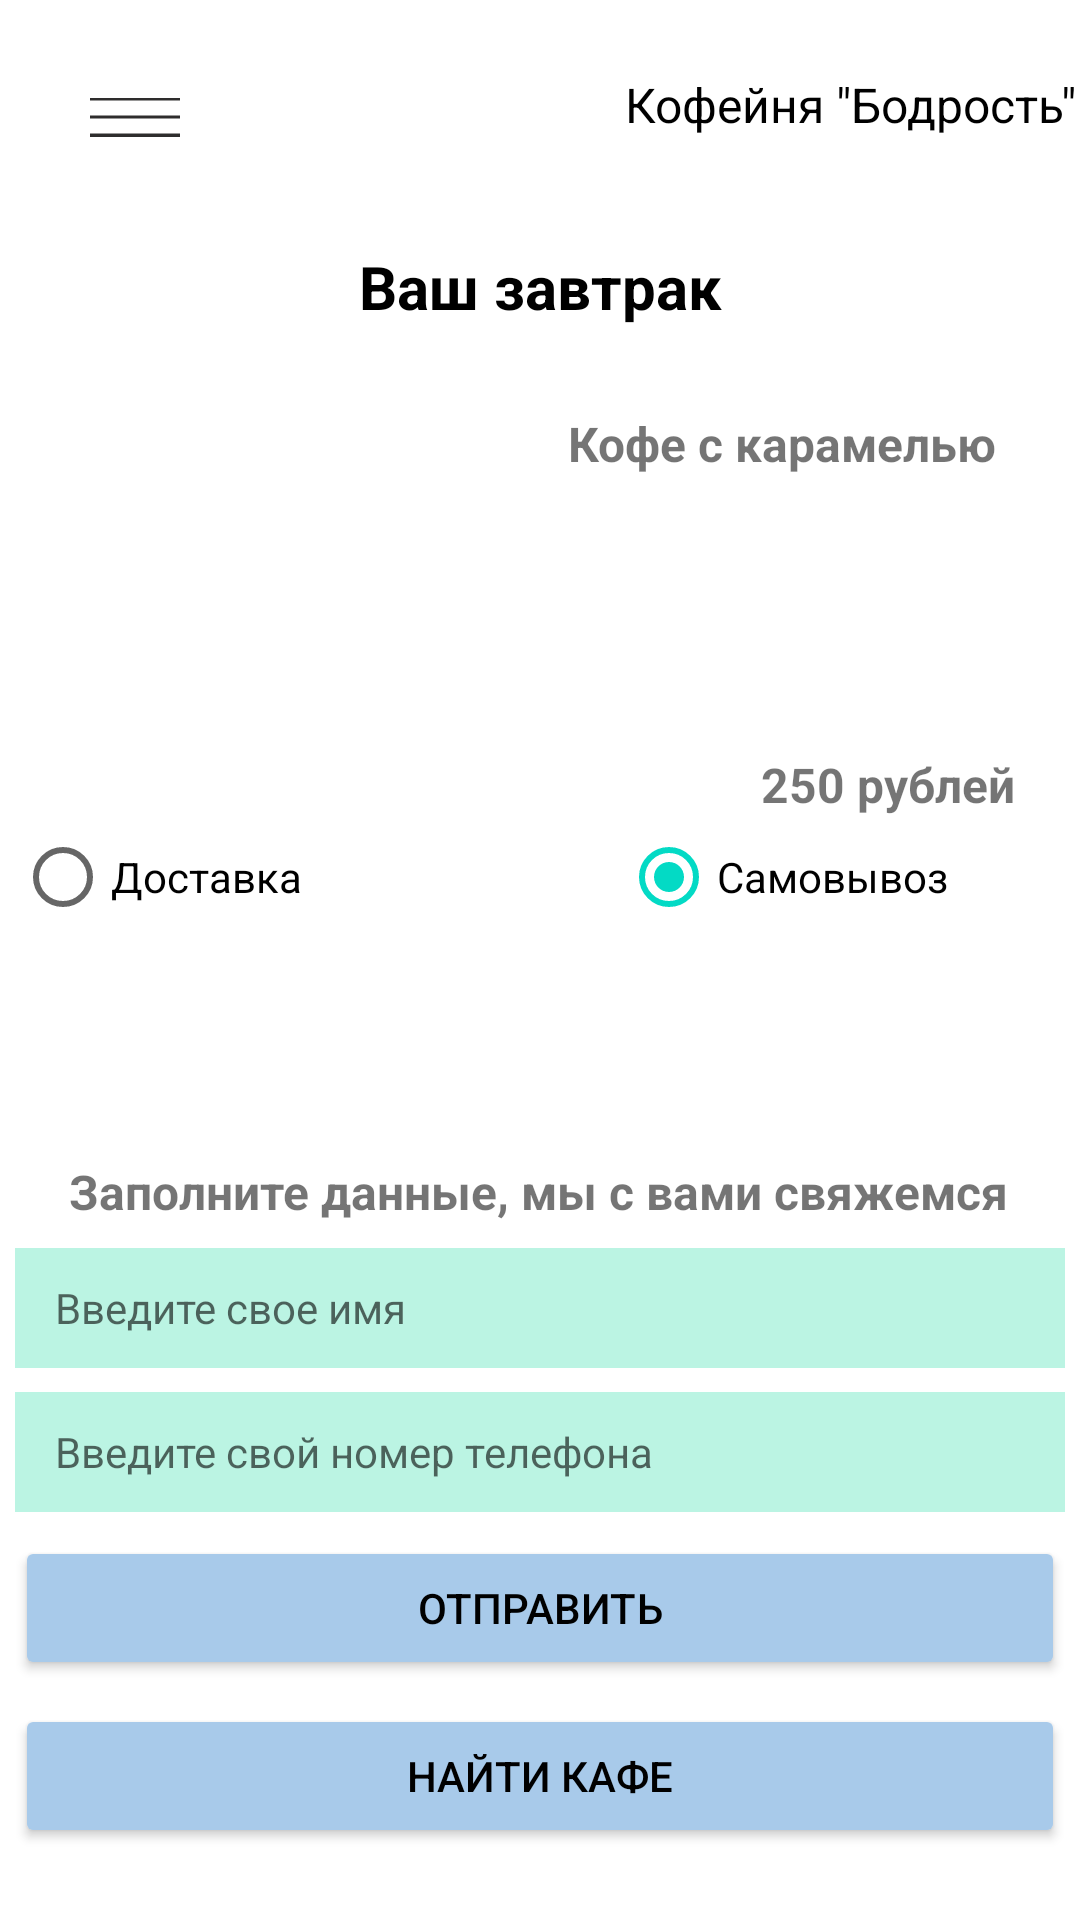

Where to tap for icons on this 1080x1920 app screen, as [x,y]:
menu: [135,117]
